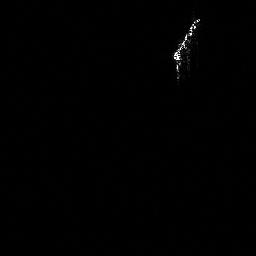ship: (169, 15, 203, 83)
